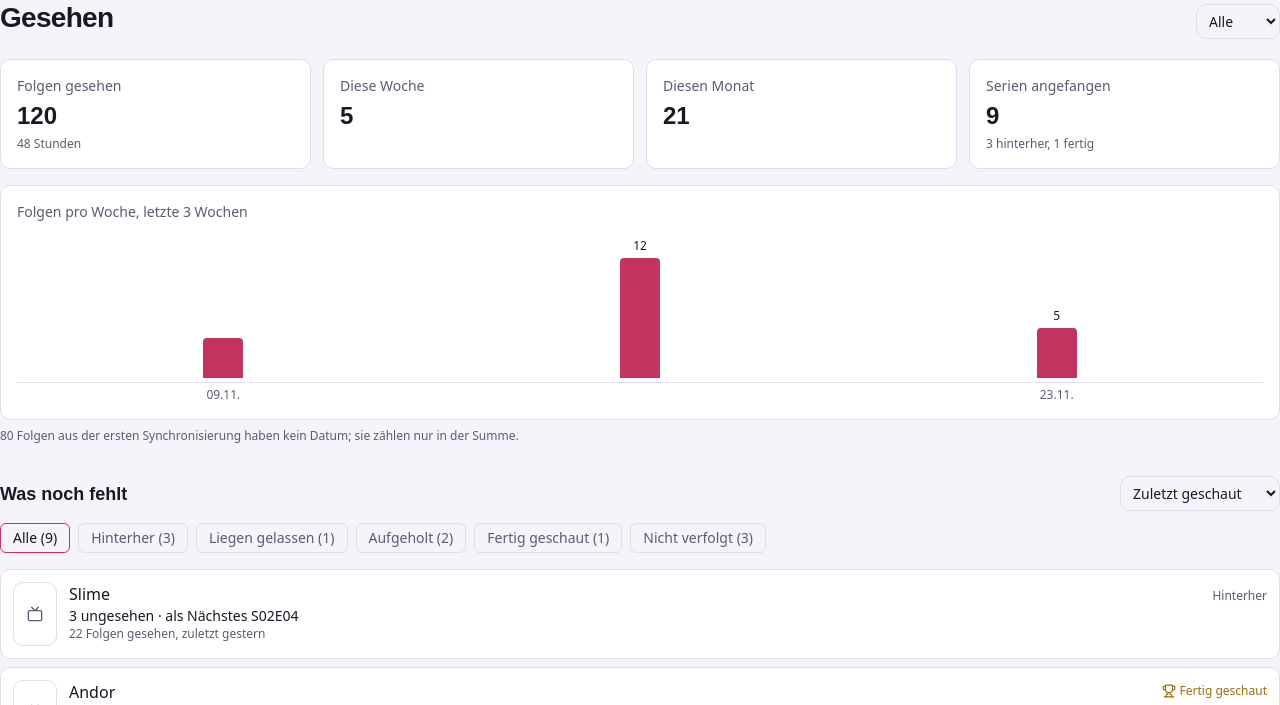
Test: filters, sorts and switches the user
Click the button "Hinterher (3)".
click(133, 538)  # box [78,523,188,553]
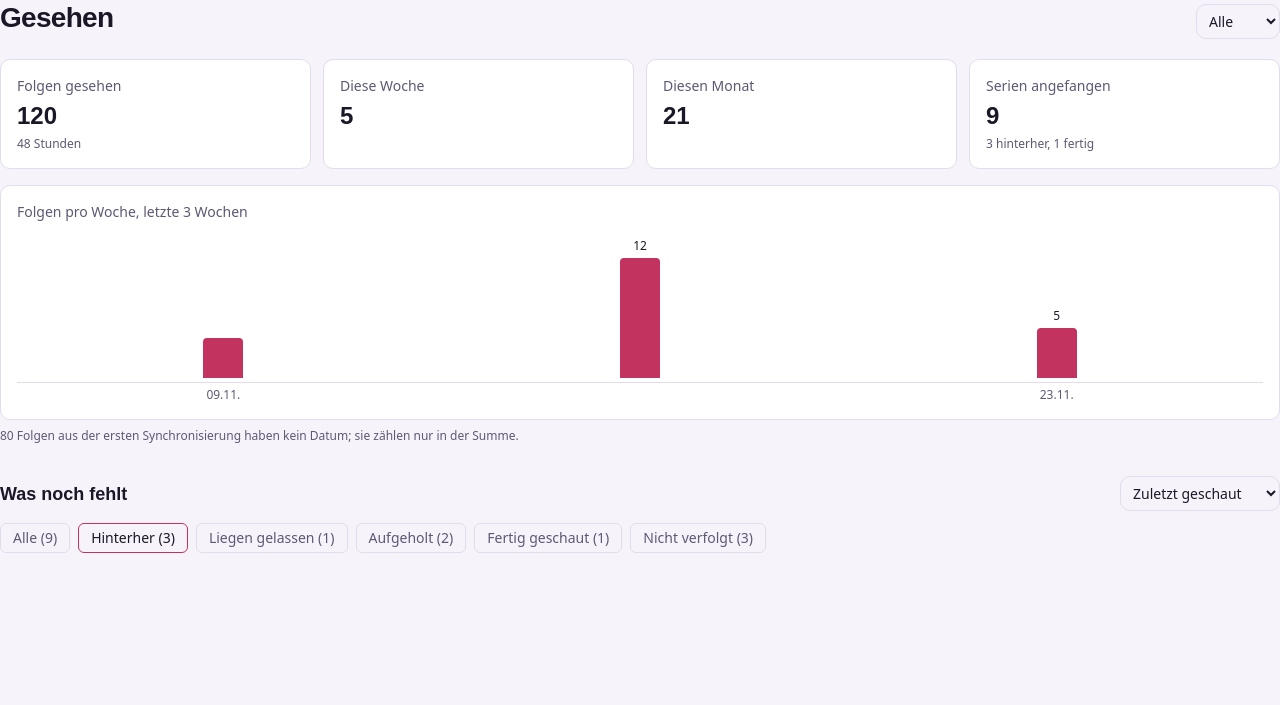
Result: the link "Andor" is gone
Select "Meiste ungesehen" in the dropdown named "Sortierung" at (1200, 494), box [1120,476,1279,511]
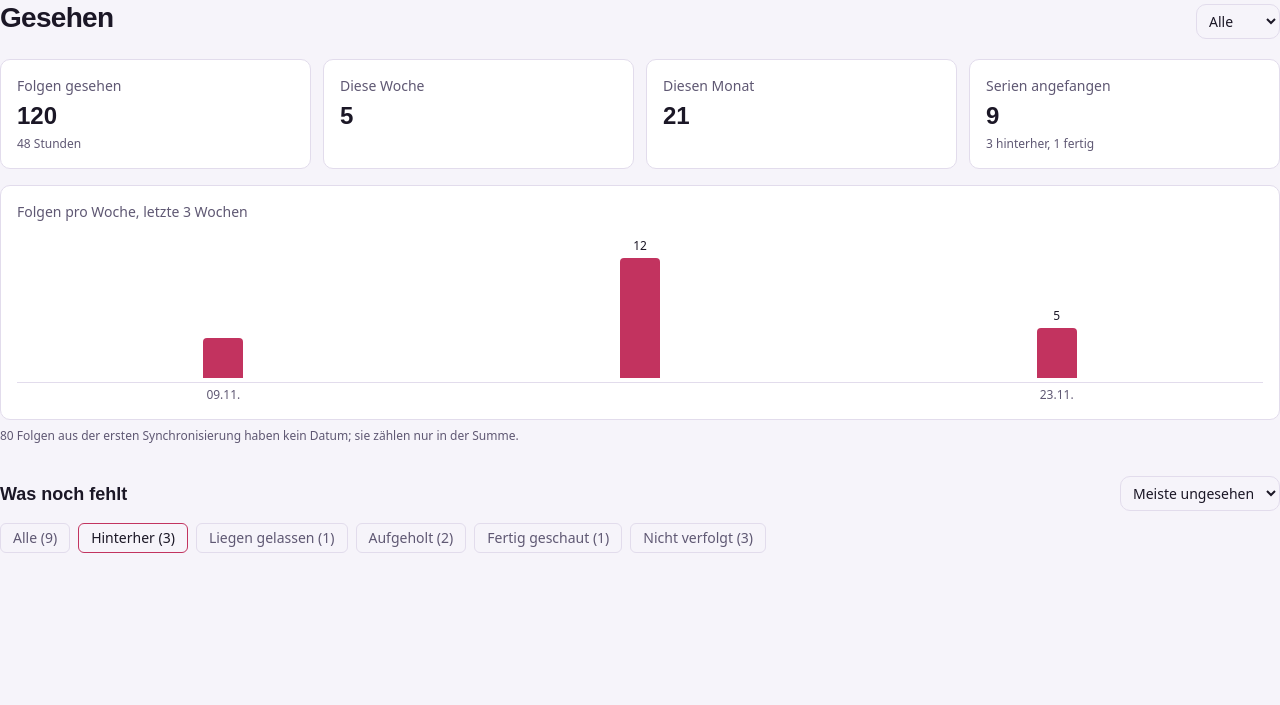
Select "Dennis" in the dropdown named "Wer" at (1238, 22), box [1196,4,1279,39]
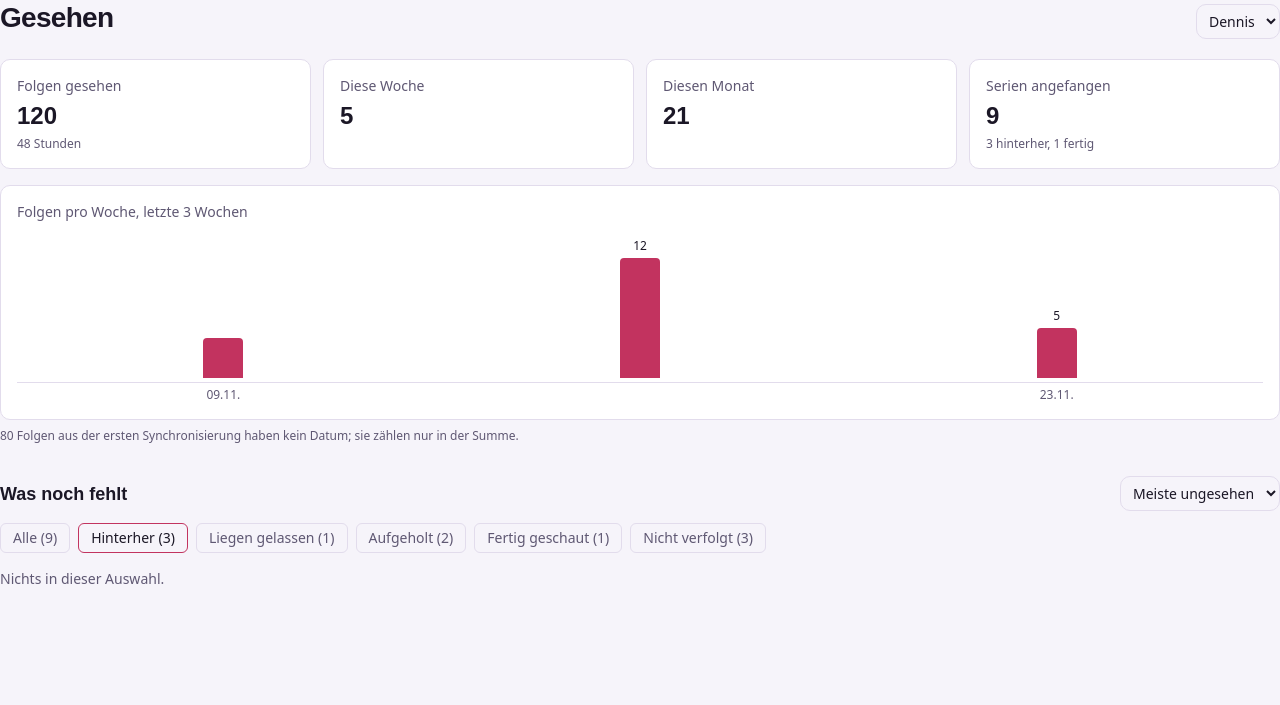
Result: the text "Nichts in dieser Auswahl." is shown at [0,569,164,588]
